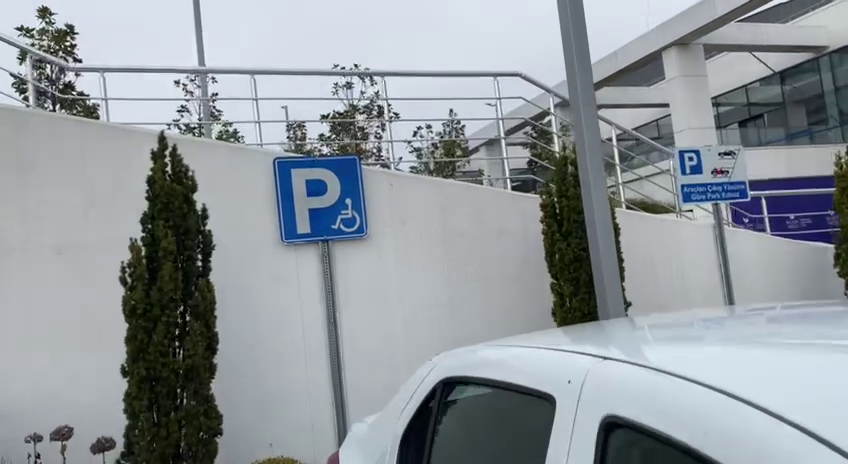parking: (272, 154, 369, 245), (677, 148, 706, 176)
